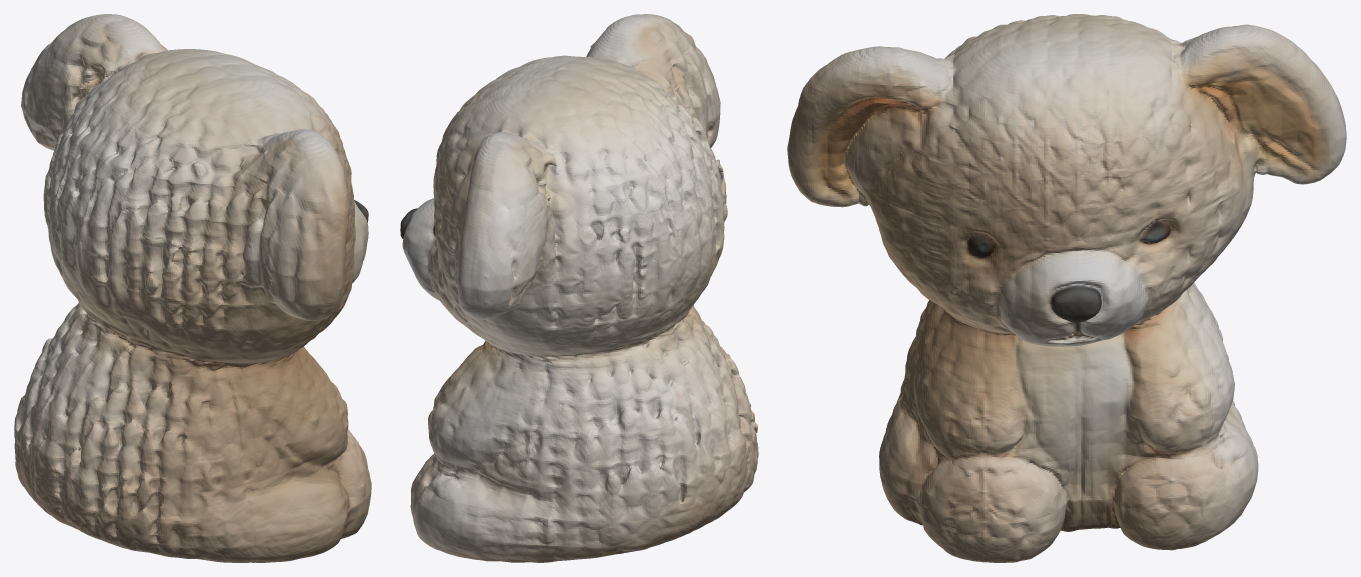
The model's file is TripoSR__00006_.glb.
The picture shows the model from 3 angles, left to right: view 1: azimuth 30°, elevation 25°; view 2: azimuth 150°, elevation 25°; view 3: azimuth 270°, elevation 25°; orthographic projection. The views are drawn at different scales.
Parts seen in each view (by area): view 1: world; view 2: world; view 3: world.
Boxes of the visible parts, x1,y1,x2,y2 form: world: [14, 14, 371, 562]; world: [400, 14, 758, 562]; world: [787, 14, 1346, 562].
Size of the model in its own units: 0.709 by 0.9181 by 0.9686.
